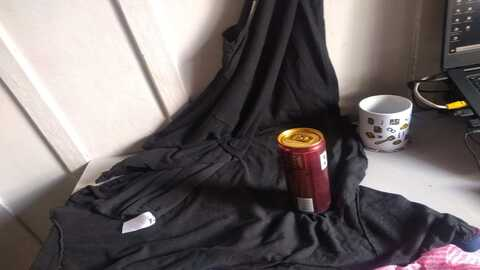duplo_malte: (275, 129, 328, 215)
